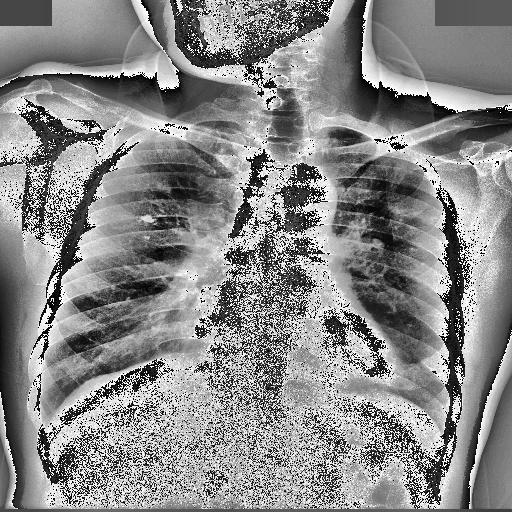10- Pleural effusion: (35, 410, 64, 432)
11- Pleural thickening: (35, 410, 64, 432)
13- Pulmonary fibrosis: (383, 193, 440, 269), (388, 204, 438, 270), (140, 180, 174, 239), (378, 198, 436, 224), (141, 212, 156, 223)
2- Calcification: (140, 180, 174, 239), (378, 198, 436, 224), (140, 214, 155, 222)
3- Cardiomegaly: (196, 300, 400, 388)
8- Nodule-Mass: (383, 193, 440, 269), (141, 212, 156, 223), (140, 214, 155, 222)
